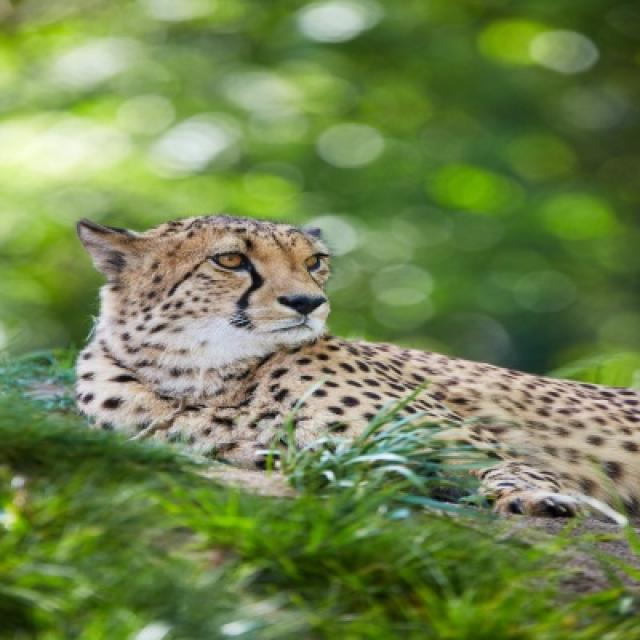Cheetah: (77, 214, 638, 528)
